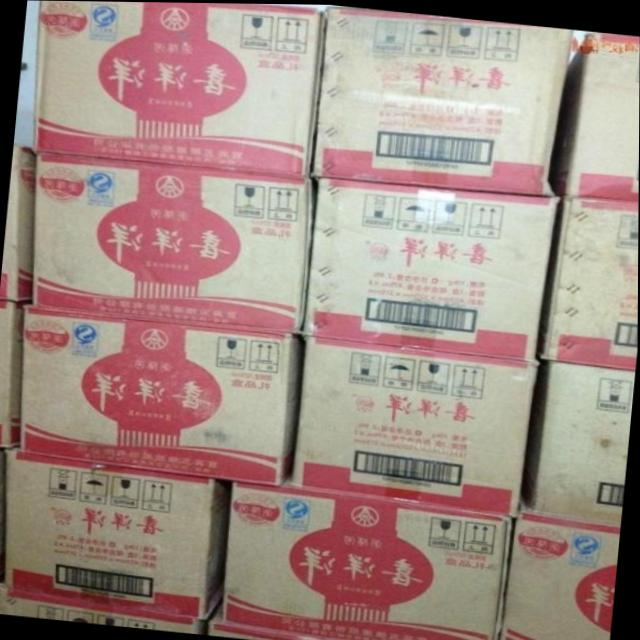box: (34, 0, 321, 178), (310, 7, 584, 191), (31, 154, 311, 332), (19, 309, 301, 483), (306, 177, 562, 363), (222, 480, 512, 640), (293, 334, 538, 515), (5, 444, 227, 617), (522, 358, 635, 521), (540, 195, 639, 368), (503, 506, 621, 640), (549, 31, 640, 200), (0, 586, 202, 632), (0, 144, 36, 303), (0, 298, 31, 449), (0, 449, 4, 578)
